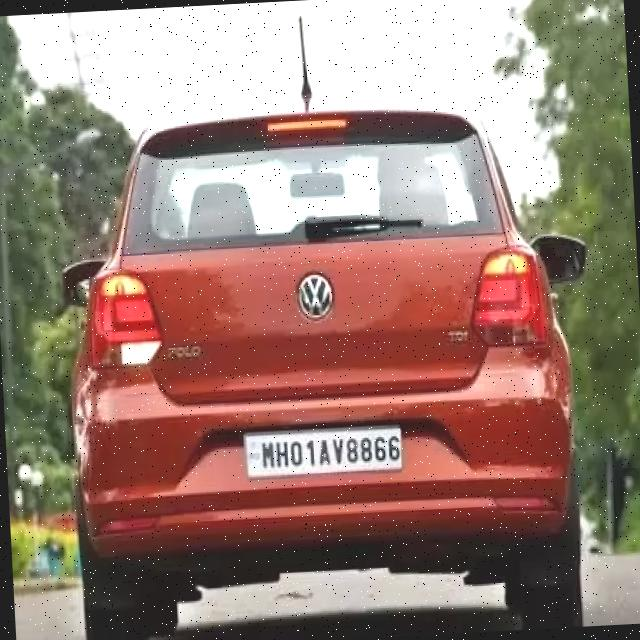Autre: (243, 423, 408, 477)
